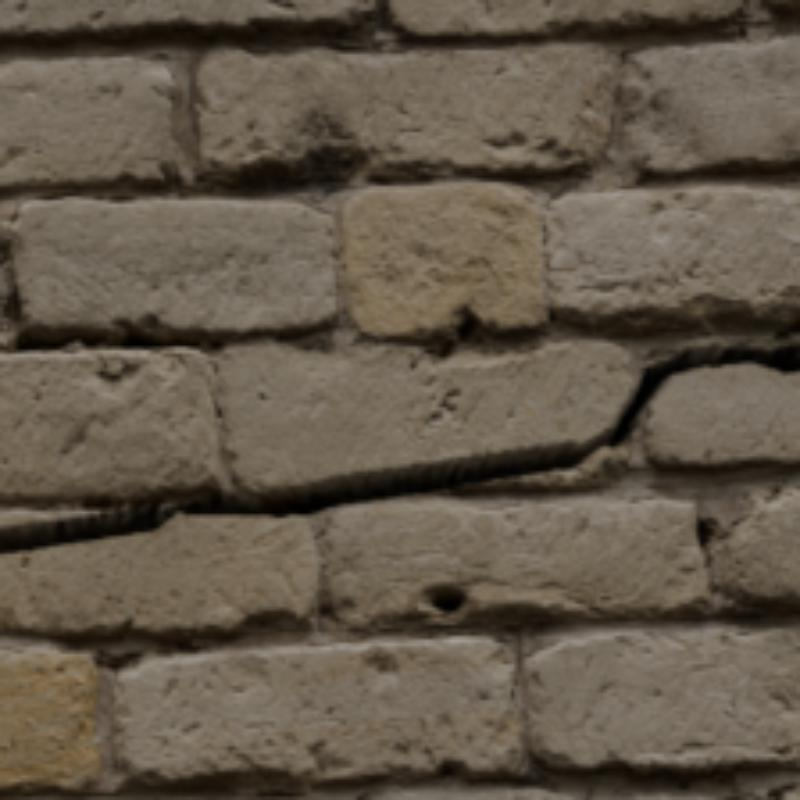pothole: (0, 339, 796, 550)
